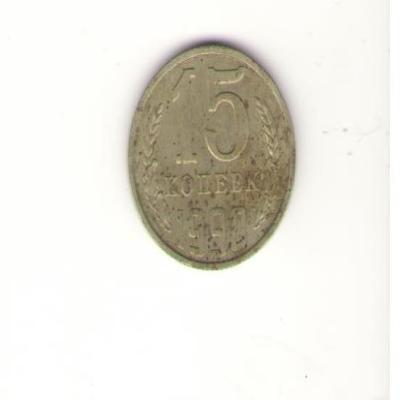numismatics: (127, 44, 297, 269)
